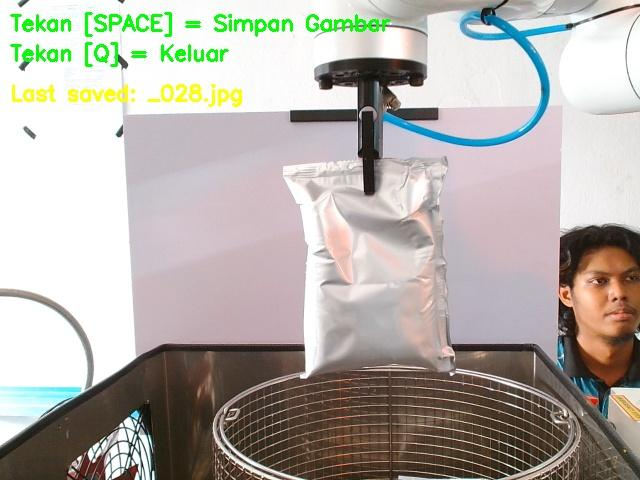retort-pouch: (281, 155, 458, 378)
